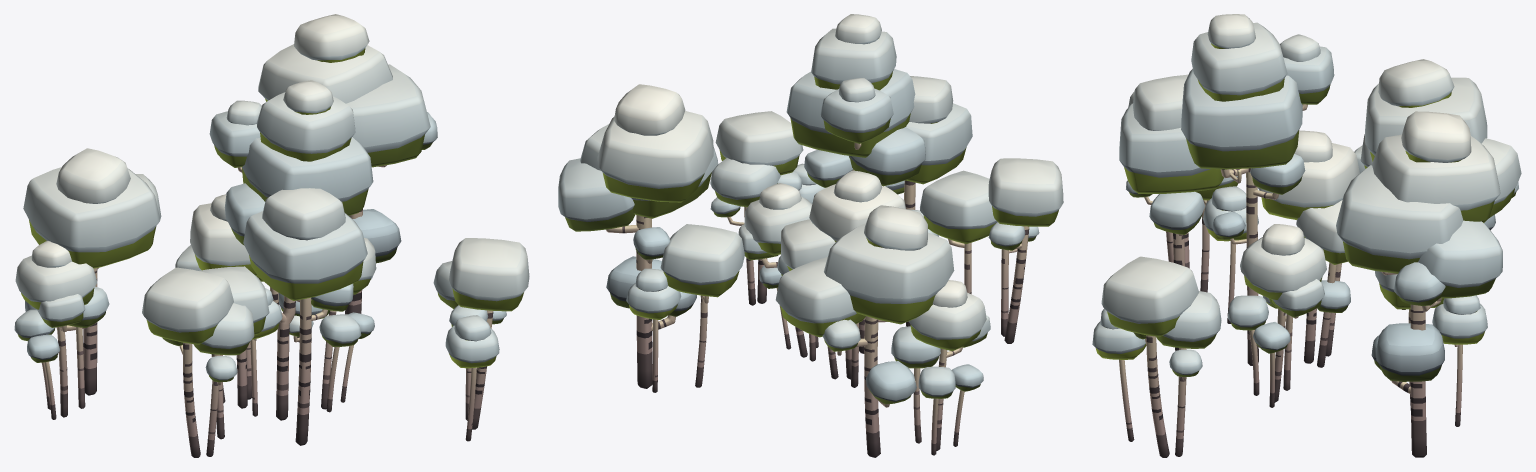
The model's file is birch_tree_group_col1_snow.fbx.
The picture shows the model from 3 angles, left to right: view 1: azimuth 30°, elevation 25°; view 2: azimuth 150°, elevation 25°; view 3: azimuth 270°, elevation 25°; orthographic projection. The views are drawn at different scales.
Parts seen in each view (by area): view 1: birch_tree_group_col1_snow; view 2: birch_tree_group_col1_snow; view 3: birch_tree_group_col1_snow.
Boxes of the visible parts, left/top/right/bottom form: birch_tree_group_col1_snow: left=14, top=14, right=529, bottom=457; birch_tree_group_col1_snow: left=558, top=14, right=1063, bottom=457; birch_tree_group_col1_snow: left=1092, top=14, right=1521, bottom=457.
Size of the model in its own units: 1697 by 1363 by 1426.
